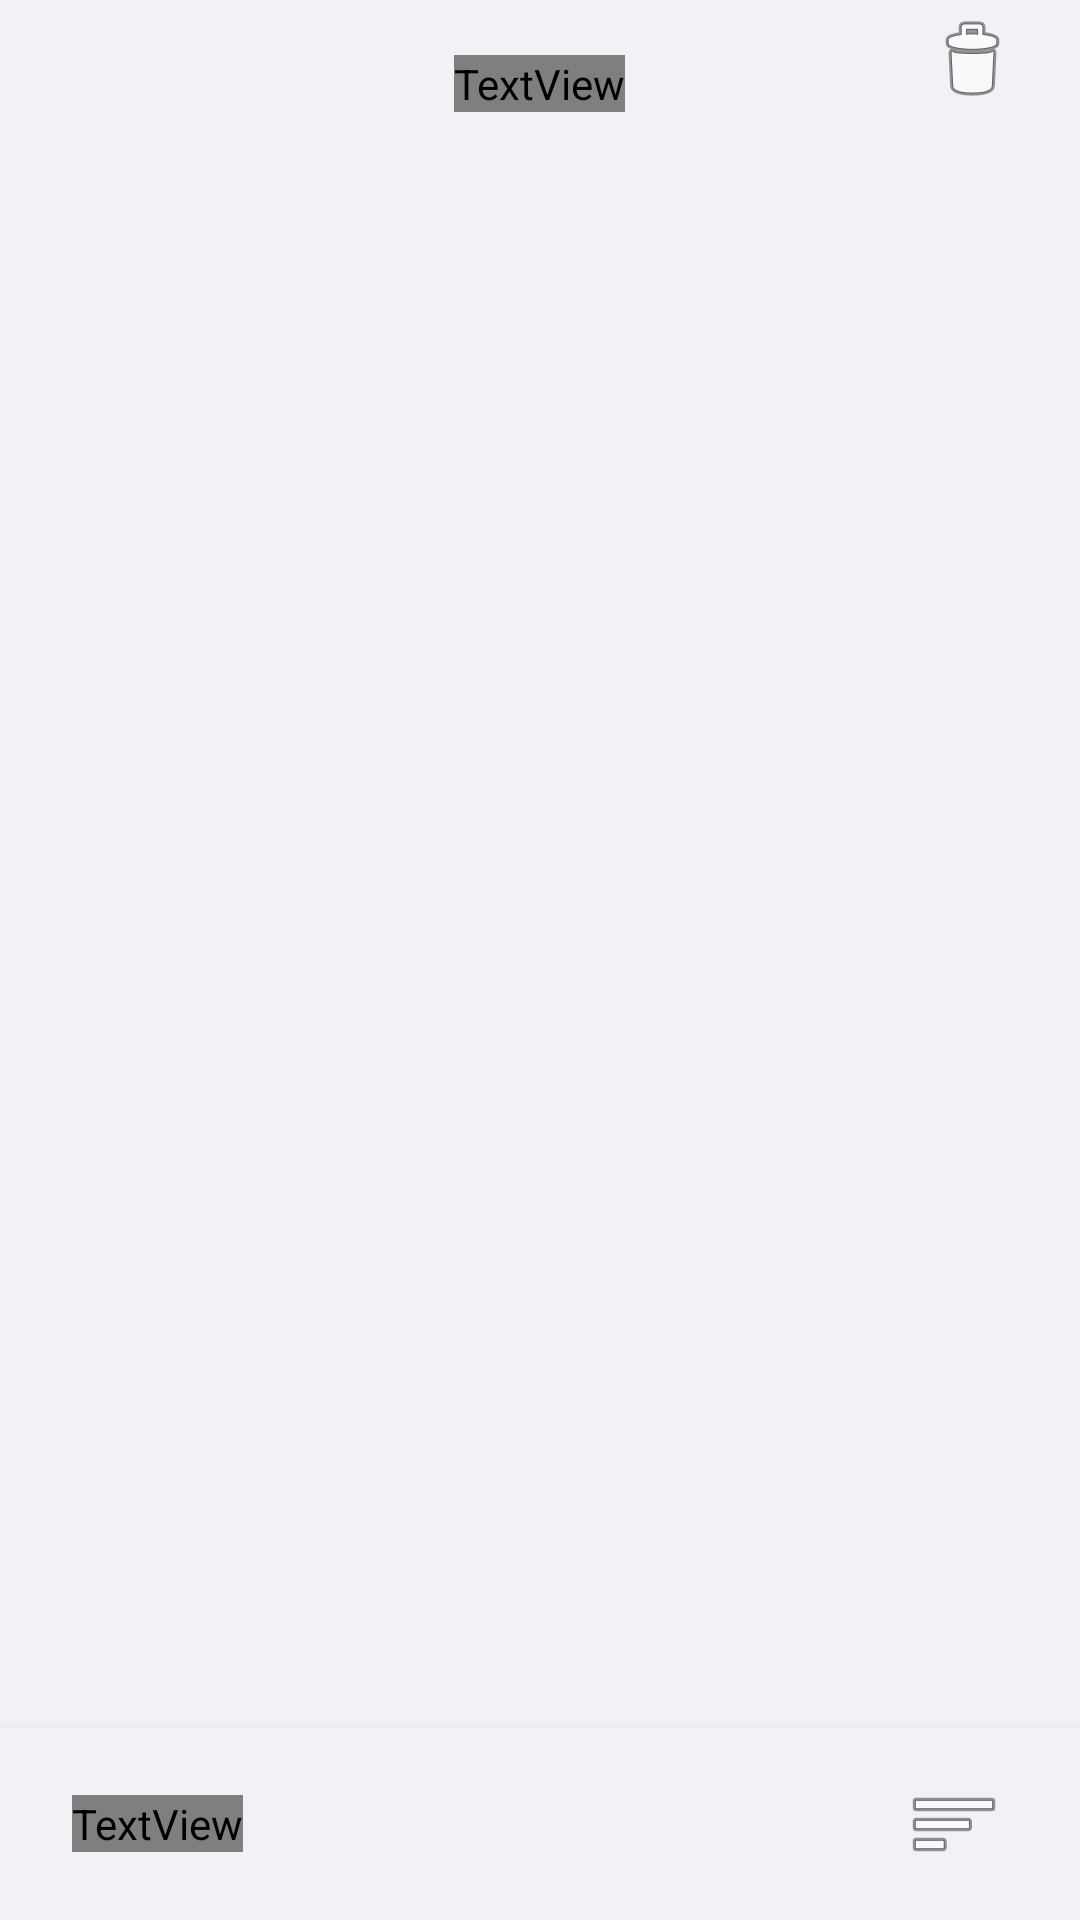

Named icons in this screenshot (1080 x 1920) and their bounding boxes, {"left": x1, "top": y1, "right": x2, "bottom": y2}:
Delete List: {"left": 945, "top": 21, "right": 1000, "bottom": 96}
Filter: {"left": 913, "top": 1798, "right": 995, "bottom": 1851}
